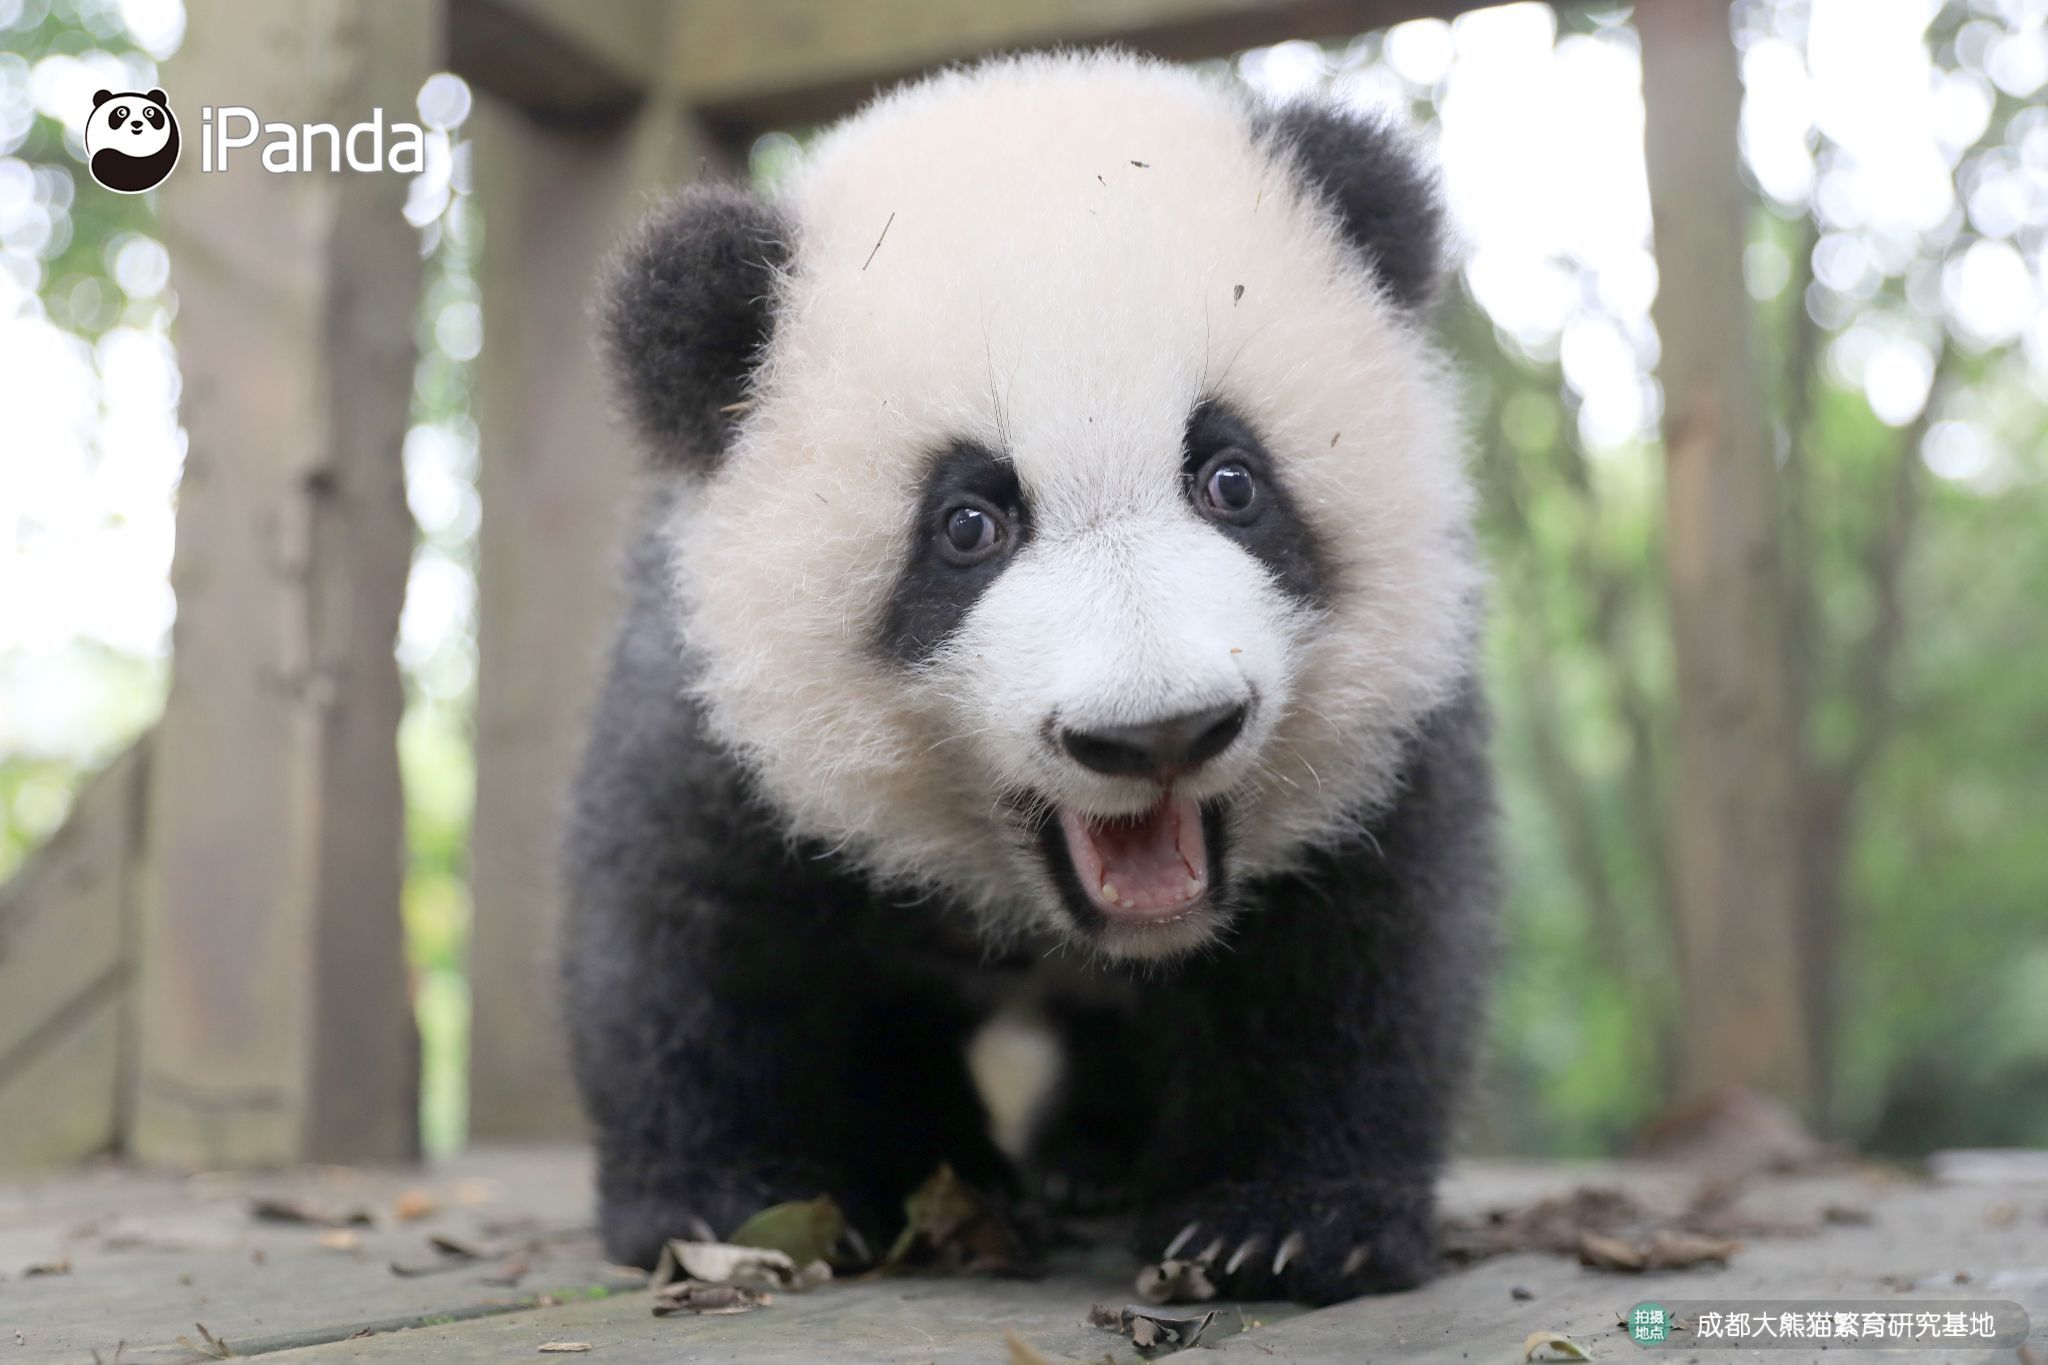panda: (531, 75, 1546, 1307)
